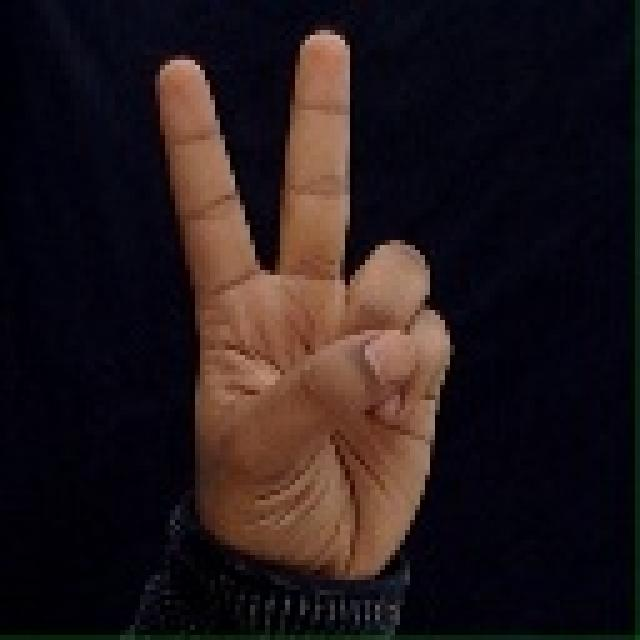Numeric-2: (152, 26, 452, 588)
